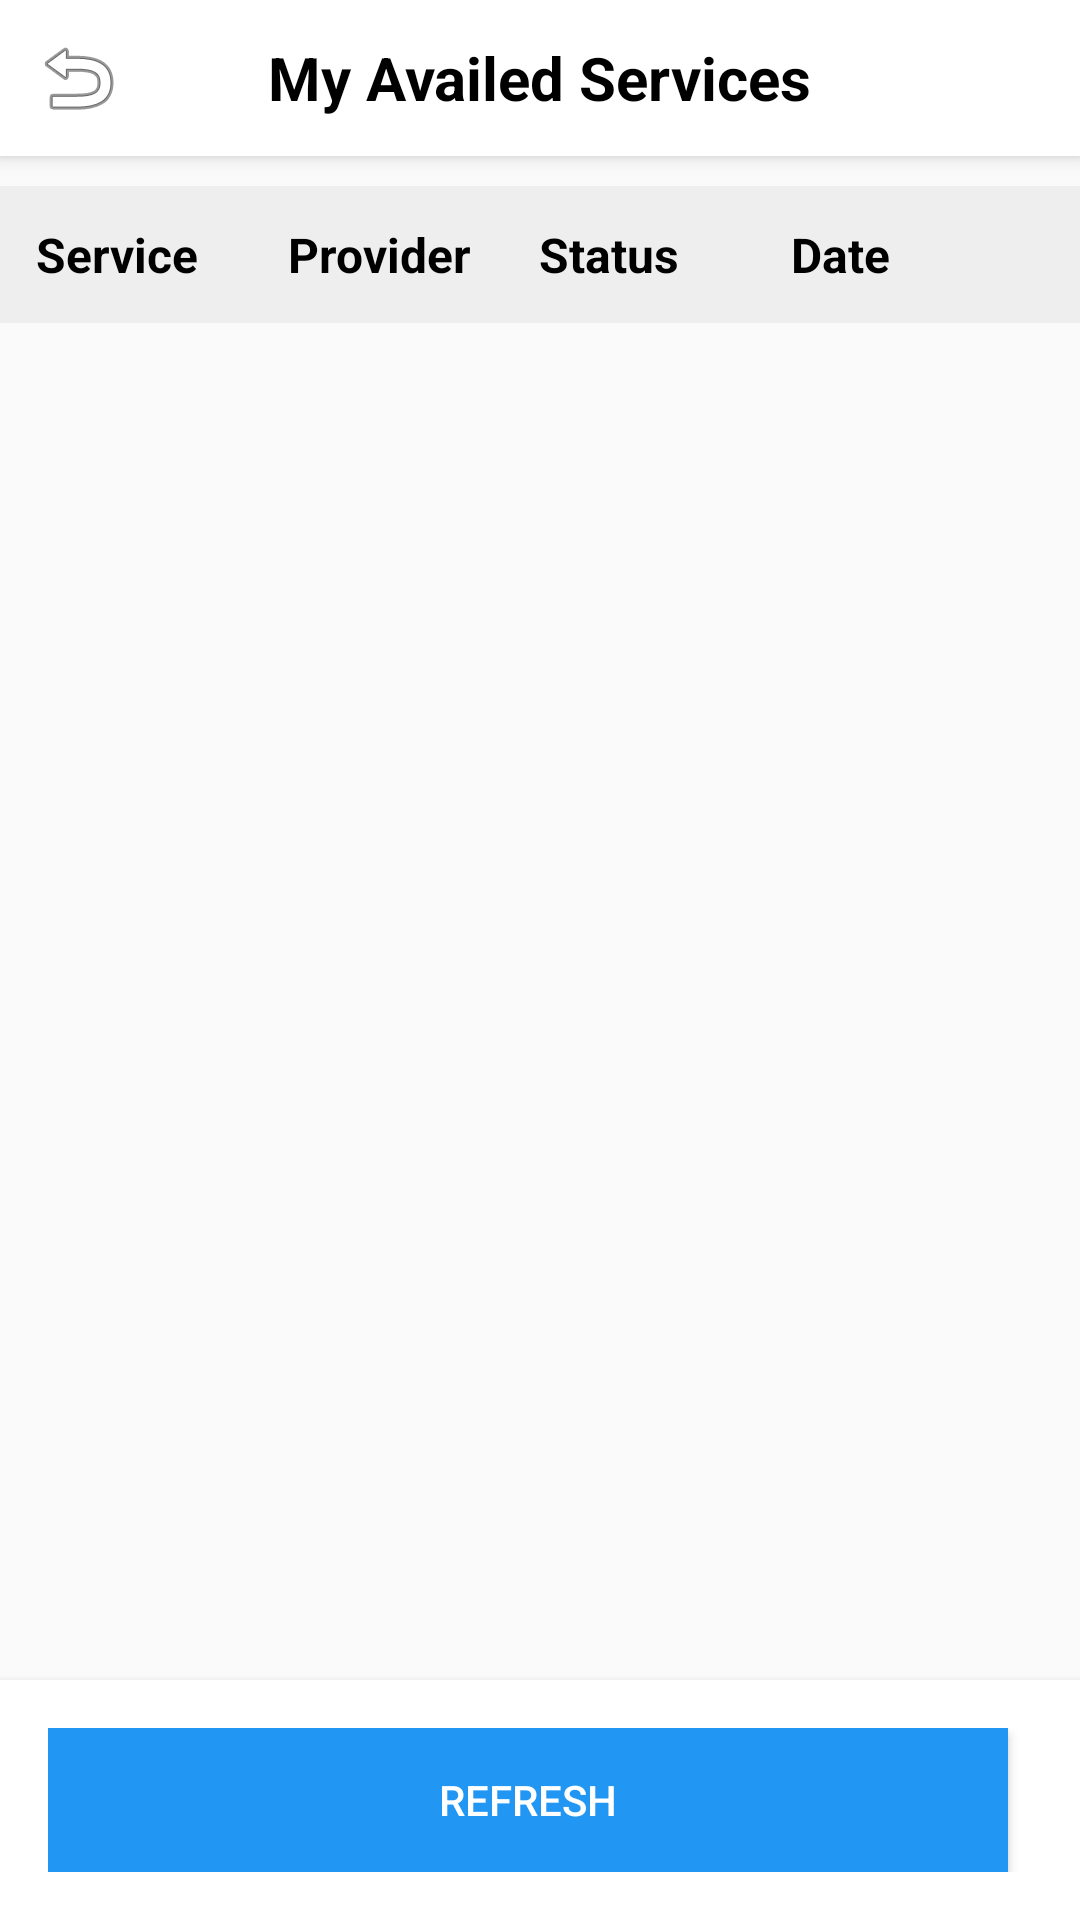

Screen size 1080*1920. Icon name, then its center in pixels as point (x, y):
revert: point (79, 78)
